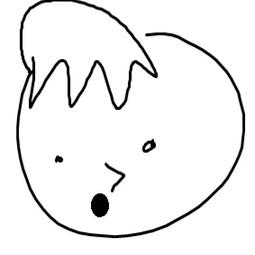open_mouth: (86, 190, 111, 220)
pointy_nose: (103, 157, 128, 194)
small_eye: (138, 139, 164, 158), (47, 150, 68, 168)
